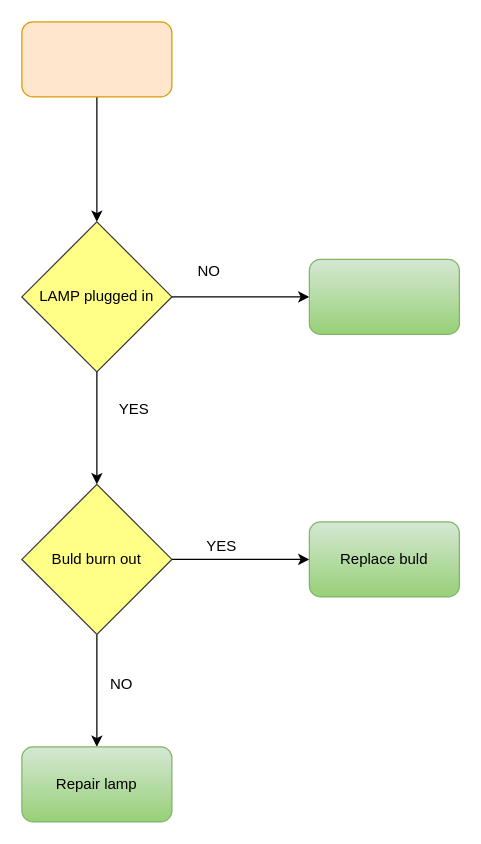
This 481x844 diagram has some shape labels left out. The box of each missing label's shape, as (x1, y1, x2, y2) in pixels:
LAMP doesn't work: (21, 21, 172, 97)
Plugin lamp: (308, 258, 459, 334)
